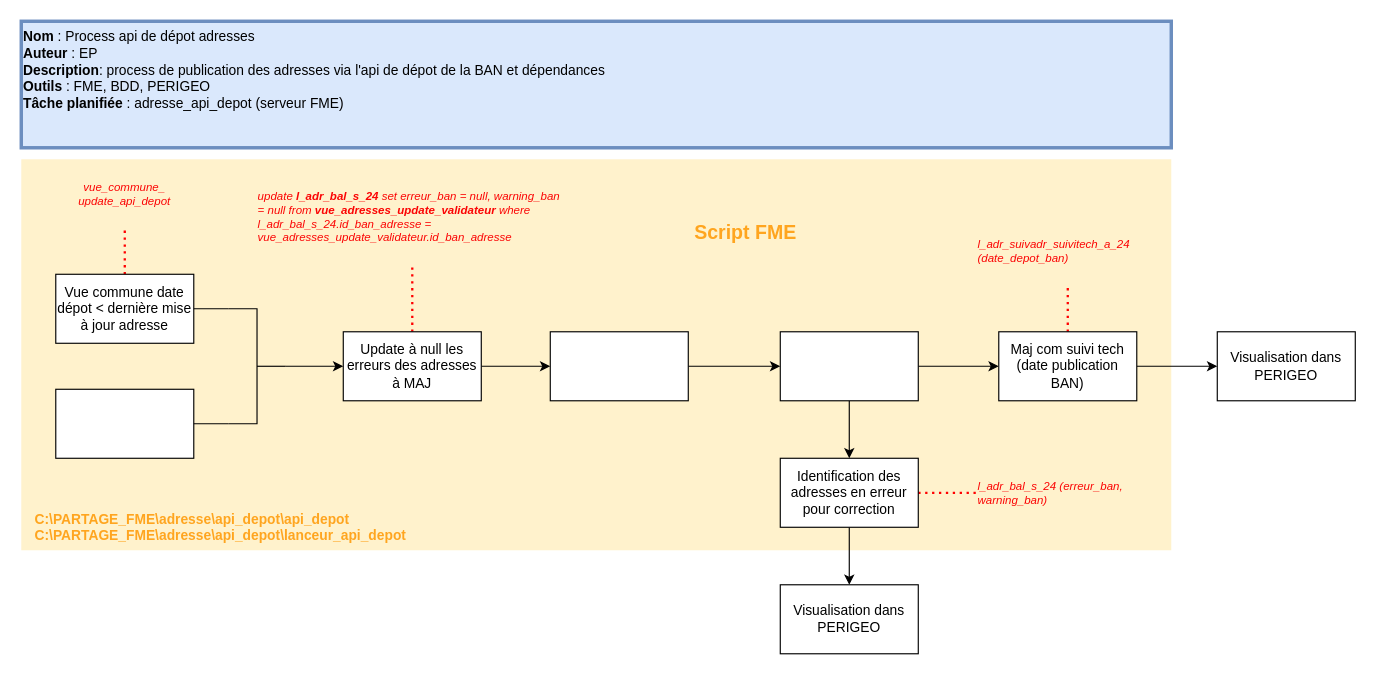
The diagram is 1375 pixels wide and 674 high, and some of its shapes have lost their labels. The shapes that lost their labels are listed below. From the top down, each one's box as (x1, y1, x2, y2) in pixels, then its label:
(549, 331, 688, 401): Adresses à publier sur la BAN
(779, 331, 918, 401): Process publication BAN
(55, 388, 194, 458): Base adresse Dordogne
